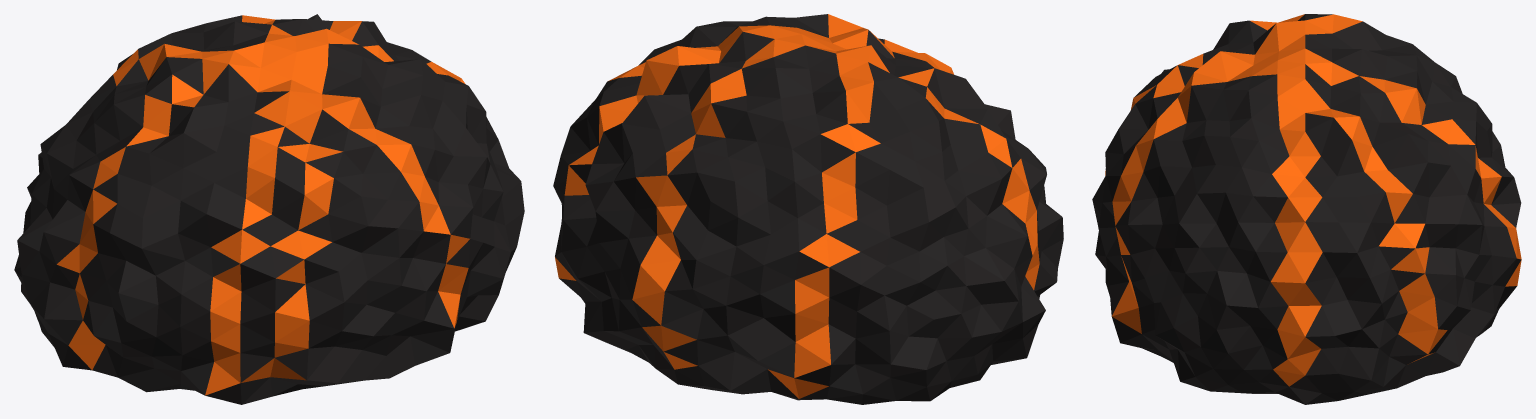
The model's file is AV_Rock_LavaBoulder.obj.
The picture shows the model from 3 angles, left to right: view 1: azimuth 30°, elevation 25°; view 2: azimuth 150°, elevation 25°; view 3: azimuth 270°, elevation 25°; orthographic projection. The views are drawn at different scales.
Visible parts, largest first — view 1: AV_Rock_LavaBoulder; view 2: AV_Rock_LavaBoulder; view 3: AV_Rock_LavaBoulder.
Boxes of the visible parts, x1,y1,x2,y2 form: AV_Rock_LavaBoulder: (14,14,524,404); AV_Rock_LavaBoulder: (553,14,1063,404); AV_Rock_LavaBoulder: (1092,14,1521,404).
Size of the model in its own units: 6.71 by 3.84 by 5.64.
